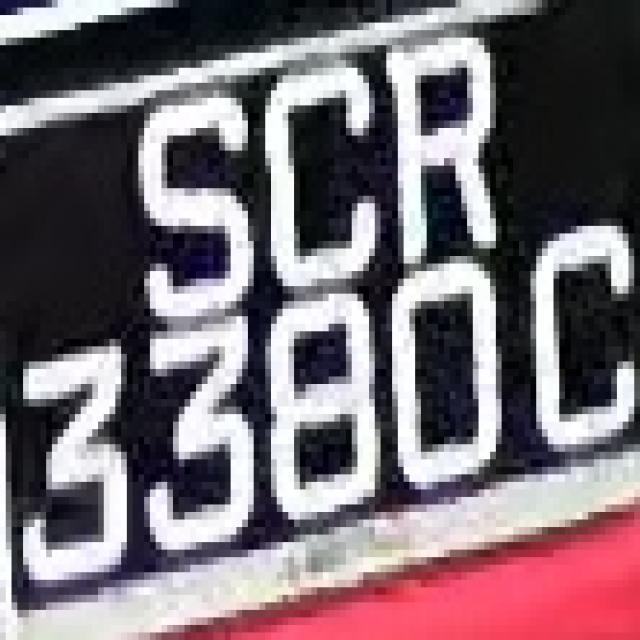0: (369, 233, 502, 504)
3: (144, 308, 277, 564), (17, 346, 133, 595)
8: (271, 286, 375, 520)
C: (254, 53, 398, 301), (508, 211, 634, 474)
R: (387, 30, 508, 256)
S: (110, 75, 253, 339)
